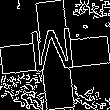M_S: (29, 28, 81, 82)
